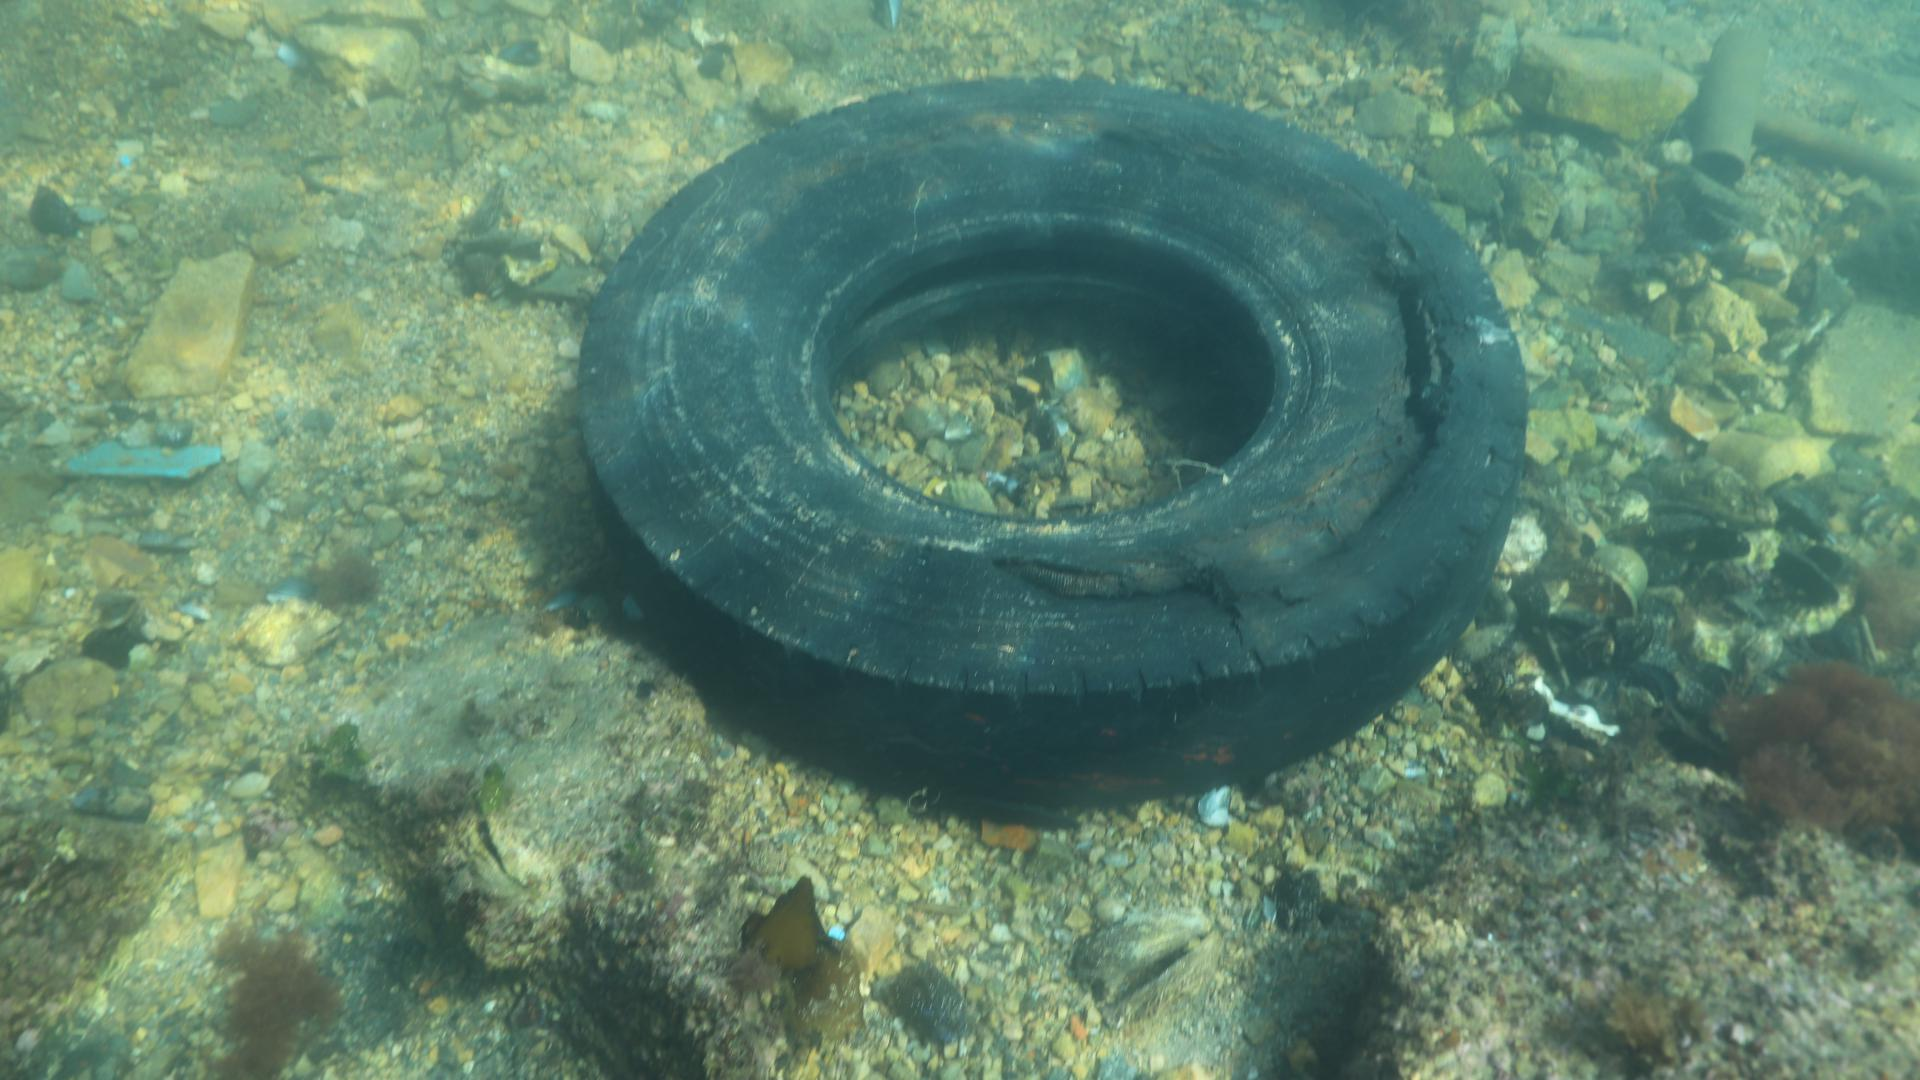tire: (574, 69, 1528, 811)
